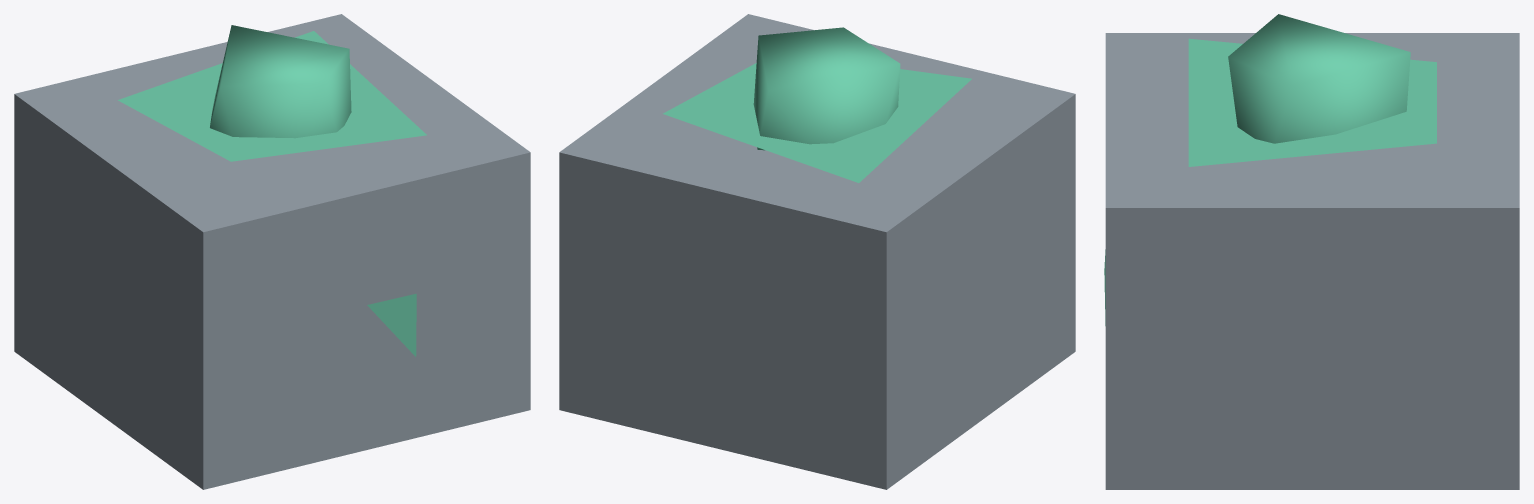
Rendered from CO_SuperweaponSeismic_LOD2.glb.
The picture shows the model from 3 angles, left to right: view 1: azimuth 30°, elevation 25°; view 2: azimuth 150°, elevation 25°; view 3: azimuth 270°, elevation 25°; orthographic projection. The views are drawn at different scales.
Visible parts, largest first — view 1: EntranceGate; view 2: EntranceGate; view 3: EntranceGate.
Boxes of the visible parts, left/top/right/bottom form: EntranceGate: left=14, top=14, right=530, bottom=489; EntranceGate: left=559, top=14, right=1075, bottom=489; EntranceGate: left=1104, top=14, right=1519, bottom=489.
Size of the model in its own units: 1000 by 940 by 1003.
